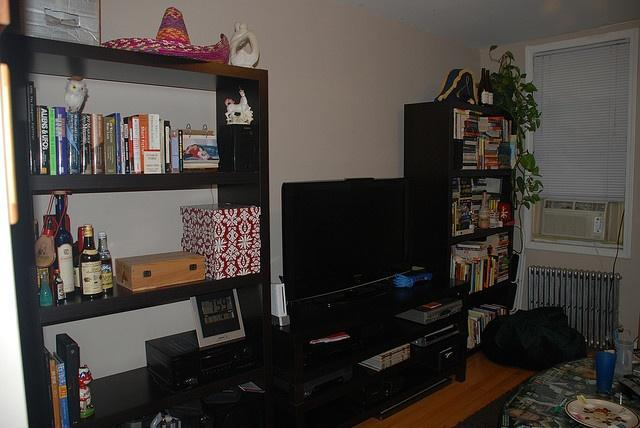AIO PC-Monitor-TV: (281, 176, 412, 311)
Rak: (29, 32, 267, 427), (449, 101, 515, 356)
